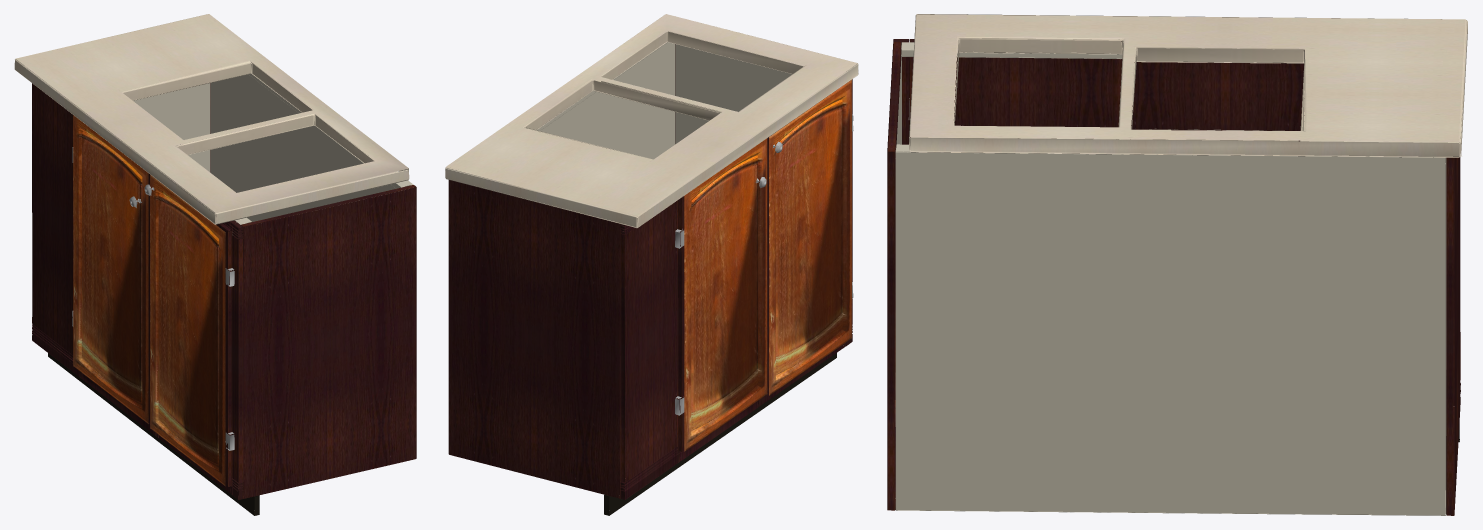
The picture shows the model from 3 angles, left to right: view 1: azimuth 30°, elevation 25°; view 2: azimuth 150°, elevation 25°; view 3: azimuth 270°, elevation 25°; orthographic projection. The views are drawn at different scales.
Parts seen in each view (by area): view 1: sink_base_carcass, sink_countertop, sink_base_right_door, sink_base_left_door; view 2: sink_base_carcass, sink_countertop, sink_base_left_door, sink_base_right_door; view 3: sink_base_carcass, sink_countertop, sink_base_left_door, sink_base_right_door.
Part boxes in pixels (x1,y1,x2,y2): sink_base_carcass: (32,73,416,515); sink_countertop: (14,14,409,224); sink_base_right_door: (144,175,234,486); sink_base_left_door: (72,115,150,423); sink_base_carcass: (448,42,852,515); sink_countertop: (445,14,858,227); sink_base_left_door: (675,138,767,452); sink_base_right_door: (765,79,853,395); sink_base_carcass: (887,39,1460,515); sink_countertop: (909,14,1467,157); sink_base_left_door: (1131,62,1304,141); sink_base_right_door: (908,57,1112,127).
Bounding box in the file's own units: 0.665 × 0.9634 × 1.27.
7 materials, 4 textured.
